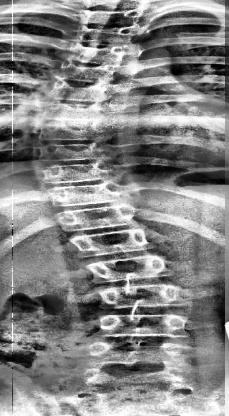Vertebrae: (85, 338, 203, 374), (67, 228, 157, 260), (84, 254, 174, 286), (54, 201, 136, 233), (93, 312, 191, 338), (96, 284, 186, 312), (34, 138, 114, 166), (46, 180, 126, 208), (38, 158, 112, 186), (38, 116, 108, 144), (76, 4, 148, 30), (40, 99, 112, 125), (50, 59, 120, 85), (73, 24, 141, 50), (44, 77, 112, 103), (63, 40, 126, 68)
